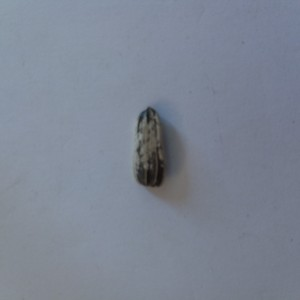girasol: (130, 105, 167, 191)
